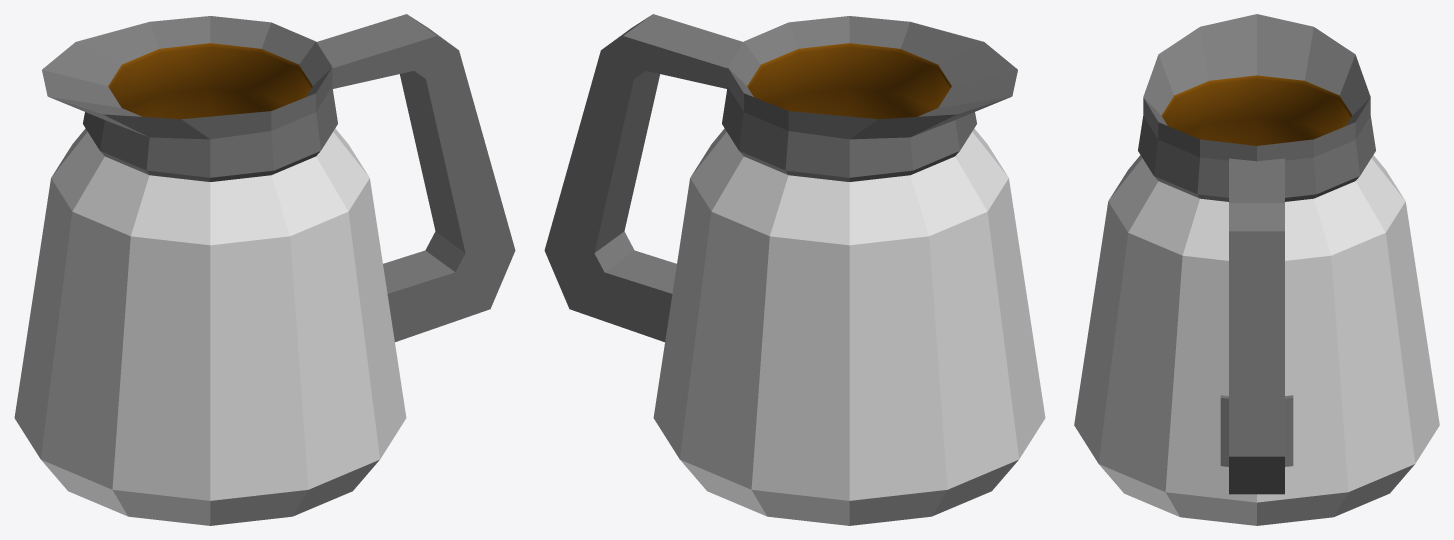
The picture shows the model from 3 angles, left to right: view 1: azimuth 30°, elevation 25°; view 2: azimuth 150°, elevation 25°; view 3: azimuth 270°, elevation 25°; orthographic projection. The views are drawn at different scales.
Visible parts, largest first — view 1: Coffee_Jar, CoffeeFill; view 2: Coffee_Jar, CoffeeFill; view 3: Coffee_Jar, CoffeeFill.
Part boxes in pixels (left/top/right/bottom): Coffee_Jar: left=14, top=14, right=515, bottom=525; CoffeeFill: left=108, top=43, right=312, bottom=119; Coffee_Jar: left=544, top=14, right=1045, bottom=525; CoffeeFill: left=747, top=43, right=951, bottom=119; Coffee_Jar: left=1074, top=14, right=1439, bottom=525; CoffeeFill: left=1161, top=75, right=1352, bottom=145.
Size of the model in its own units: 3.33 by 2.77 by 2.46.
